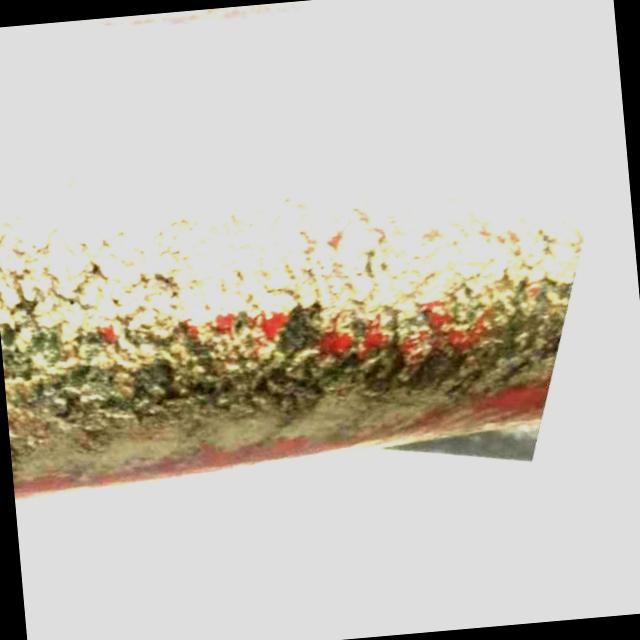corrosion: (0, 154, 543, 471)
